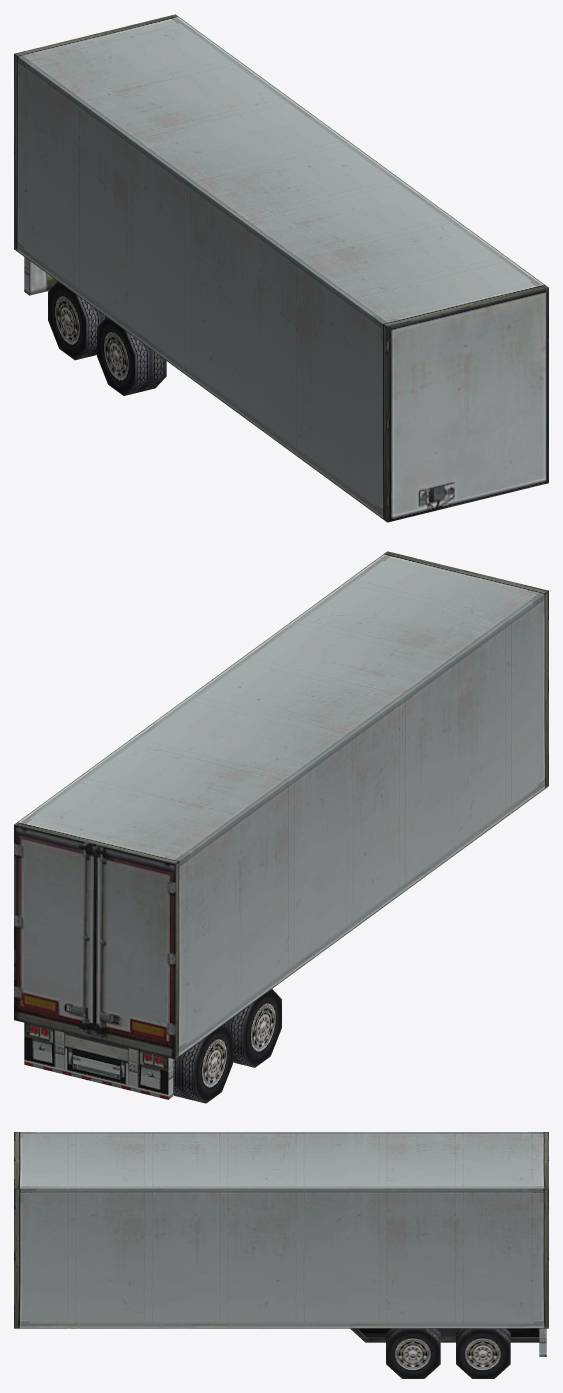
File: Car_SemitrailerMetal.fbx
The picture shows the model from 3 angles, top to bottom: view 1: azimuth 30°, elevation 25°; view 2: azimuth 150°, elevation 25°; view 3: azimuth 270°, elevation 25°; orthographic projection. The views are drawn at different scales.
Parts seen in each view (by area): view 1: Car_SemitrailerMetal; view 2: Car_SemitrailerMetal; view 3: Car_SemitrailerMetal.
Boxes of the visible parts, x1,y1,x2,y2 form: Car_SemitrailerMetal: (14,14,548,522); Car_SemitrailerMetal: (14,551,548,1103); Car_SemitrailerMetal: (14,1132,548,1378).
Bounding box in the file's own units: 2.5 × 3.98 × 10.01.
